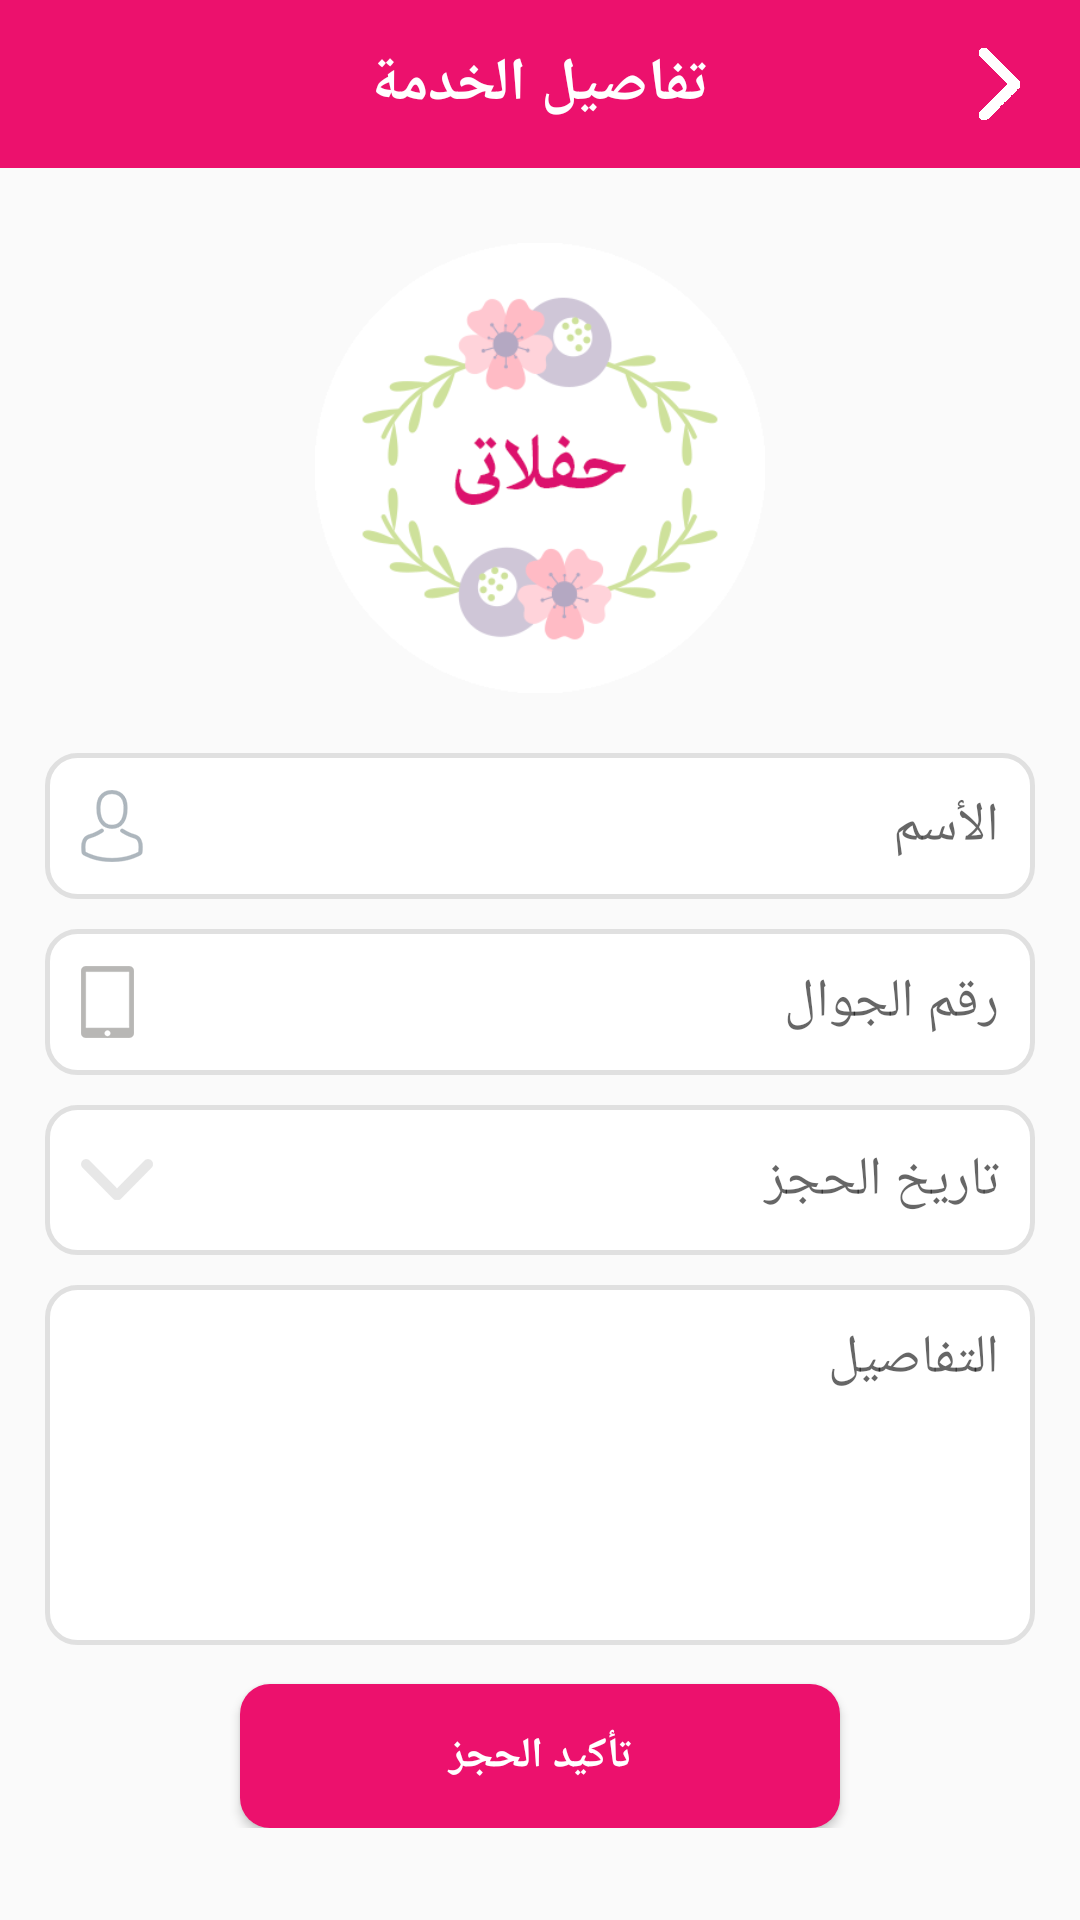

Where to tap for icons on this 1080*1920 app screen, as (x,y):
arwo: (999,84)
